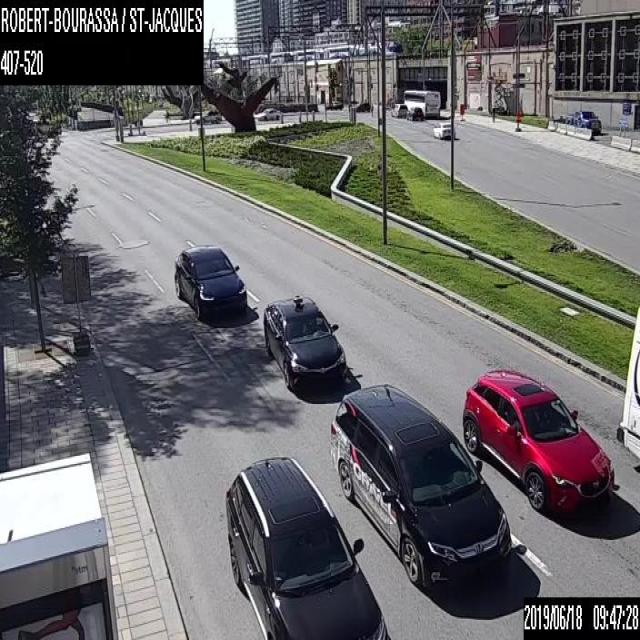bus: (616, 303, 639, 460), (403, 90, 441, 118)
construction: (514, 105, 522, 122), (459, 103, 464, 113)
vehicle: (330, 385, 510, 583), (223, 453, 392, 639), (462, 364, 612, 528), (261, 291, 347, 389), (172, 241, 247, 320), (565, 109, 601, 135), (192, 107, 218, 124), (432, 120, 455, 137), (257, 105, 278, 120), (407, 106, 423, 120), (390, 103, 407, 115), (352, 100, 369, 110)
